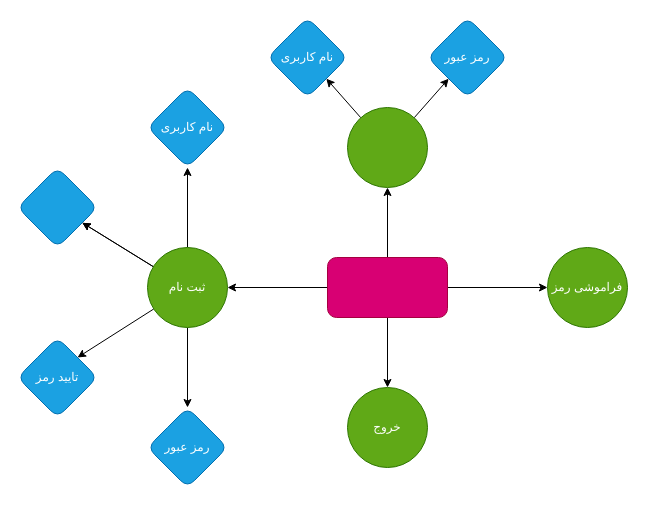
This 645x505 diagram has some shape labels left out. Here are the shapes that lost their labels. From the top down, the centre of each, then its label:
At point 387,147: "ورود".
At point 57,207: "ایمیل".
At point 387,287: "اکانت".
